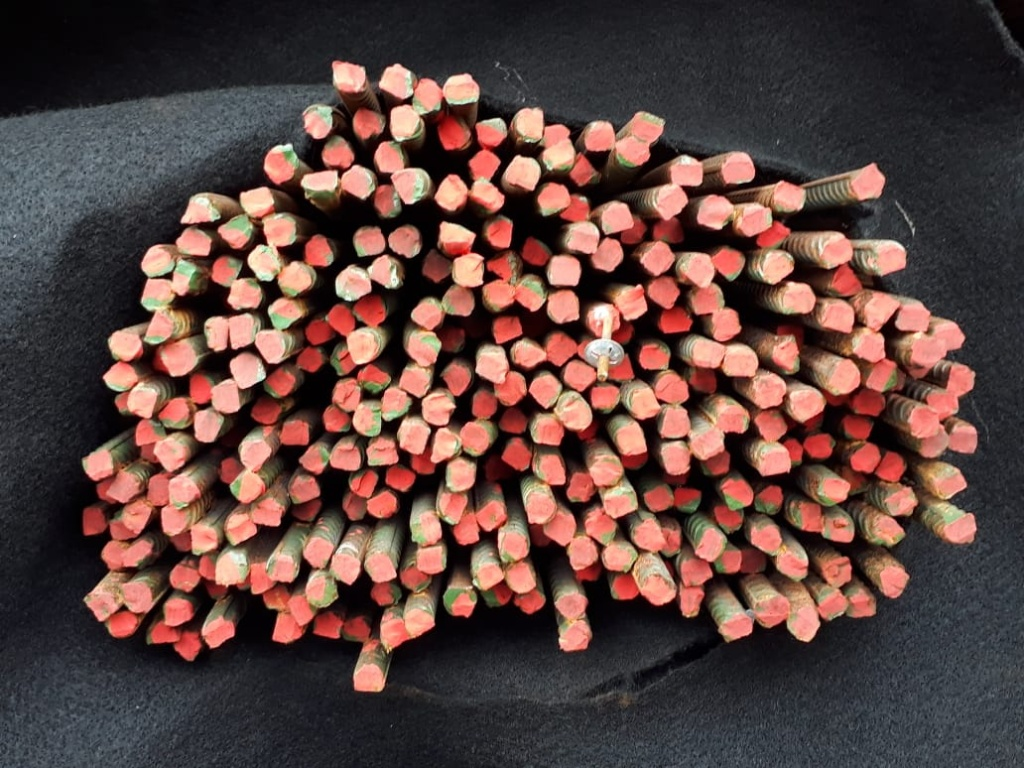dipstick: (554, 392, 592, 431), (543, 332, 579, 368), (277, 261, 312, 297), (697, 194, 733, 229), (379, 65, 417, 98), (264, 145, 296, 184), (230, 353, 265, 388), (247, 244, 281, 280), (335, 266, 371, 300), (789, 389, 825, 423), (515, 274, 547, 312), (161, 341, 196, 375), (436, 115, 470, 150), (506, 155, 540, 190), (826, 359, 860, 394), (850, 328, 885, 362), (863, 296, 899, 329), (641, 241, 675, 275), (261, 214, 296, 247), (435, 175, 468, 210), (172, 259, 204, 295), (544, 510, 576, 546), (753, 595, 789, 627), (713, 246, 745, 282), (586, 303, 620, 336), (391, 169, 423, 204), (408, 330, 440, 365), (591, 237, 623, 272), (655, 184, 687, 219), (852, 165, 884, 200), (341, 166, 374, 199), (218, 215, 251, 248), (819, 233, 852, 266), (458, 422, 490, 456), (440, 222, 474, 254), (538, 183, 570, 217), (476, 350, 508, 384), (494, 372, 526, 406), (529, 375, 561, 409), (681, 253, 713, 287), (390, 104, 421, 139), (141, 279, 176, 310), (267, 298, 302, 329), (102, 361, 137, 392), (368, 256, 403, 287), (640, 574, 676, 604), (412, 78, 441, 115), (713, 405, 750, 434), (215, 552, 248, 584), (229, 471, 262, 503), (631, 111, 664, 143), (547, 289, 579, 322), (584, 514, 616, 547), (691, 427, 723, 460), (547, 255, 581, 286), (603, 487, 637, 518), (590, 456, 624, 487), (654, 373, 688, 404), (723, 345, 757, 376), (721, 152, 755, 183), (764, 250, 795, 284), (144, 309, 174, 344), (737, 206, 772, 236), (772, 337, 800, 374), (305, 576, 337, 608), (388, 225, 420, 257), (753, 375, 785, 407), (321, 136, 354, 167), (122, 501, 153, 534), (202, 617, 235, 648), (353, 295, 386, 326), (755, 410, 788, 441), (469, 181, 503, 211), (423, 248, 453, 282), (488, 251, 522, 281), (788, 607, 818, 641), (757, 220, 791, 250), (852, 386, 886, 416), (331, 62, 366, 91), (443, 74, 478, 103), (568, 535, 597, 570), (910, 336, 946, 364), (225, 514, 257, 545), (421, 394, 453, 425), (452, 254, 483, 286), (634, 519, 665, 551), (564, 360, 596, 391), (680, 556, 711, 588), (884, 486, 916, 517), (240, 187, 273, 217), (141, 247, 174, 277), (107, 471, 140, 501), (511, 338, 544, 368), (932, 468, 965, 498), (302, 104, 331, 138), (228, 279, 262, 308), (443, 587, 477, 616), (176, 228, 211, 256), (82, 449, 113, 480), (347, 332, 378, 363), (398, 422, 429, 453), (401, 562, 432, 593), (543, 140, 574, 171), (568, 223, 599, 254), (875, 242, 906, 273), (866, 360, 897, 391), (255, 331, 285, 363), (154, 439, 184, 471), (438, 492, 468, 524), (617, 287, 647, 319), (696, 529, 726, 561), (776, 550, 808, 580), (872, 516, 904, 546), (875, 451, 907, 481), (649, 277, 679, 309), (671, 156, 703, 186), (773, 181, 805, 211), (821, 514, 854, 543), (782, 283, 815, 312), (820, 303, 853, 332), (484, 215, 512, 249), (656, 307, 692, 333), (946, 363, 972, 399), (211, 256, 242, 286), (193, 411, 223, 442), (469, 150, 500, 180), (404, 608, 434, 639), (504, 563, 535, 593), (491, 313, 522, 343), (909, 407, 939, 438), (108, 331, 140, 360), (352, 226, 384, 255), (442, 364, 471, 396), (410, 300, 442, 329), (527, 492, 556, 524), (692, 285, 724, 314), (301, 171, 338, 196), (352, 109, 385, 137), (382, 387, 410, 420), (616, 138, 649, 166), (712, 308, 740, 341), (83, 593, 117, 620), (603, 545, 637, 572), (159, 398, 189, 428), (265, 368, 295, 398), (122, 582, 152, 612), (326, 305, 356, 335), (410, 514, 440, 544), (584, 121, 614, 151), (482, 279, 512, 309), (817, 591, 847, 621), (375, 142, 404, 173), (239, 441, 270, 470), (274, 613, 305, 642), (477, 500, 506, 531), (443, 286, 474, 315), (602, 204, 633, 233), (534, 455, 565, 484), (532, 416, 563, 445), (792, 502, 823, 531), (850, 443, 881, 472), (832, 265, 861, 296), (949, 423, 978, 454), (364, 554, 396, 582), (880, 566, 908, 598), (182, 195, 215, 222), (228, 315, 255, 348), (374, 184, 401, 217), (515, 108, 542, 141), (128, 388, 157, 418), (210, 382, 239, 412), (168, 477, 197, 507), (252, 497, 282, 526), (349, 469, 378, 499), (331, 554, 361, 583), (379, 617, 408, 647), (399, 368, 429, 397), (822, 557, 851, 587), (920, 427, 949, 457), (945, 514, 975, 543), (251, 396, 282, 424), (304, 537, 332, 568), (304, 234, 332, 265), (476, 118, 507, 146), (353, 404, 381, 435), (353, 664, 384, 692), (932, 322, 963, 350), (927, 390, 958, 418), (169, 565, 201, 592), (330, 343, 356, 376), (691, 340, 724, 366), (571, 153, 596, 187), (267, 554, 296, 583), (521, 237, 550, 266), (332, 382, 360, 412), (750, 525, 780, 553), (359, 365, 390, 392), (721, 613, 752, 640), (897, 306, 928, 333), (164, 597, 193, 625), (446, 461, 474, 490), (500, 532, 528, 561), (847, 589, 876, 617), (630, 389, 658, 418), (660, 409, 689, 437), (819, 478, 847, 507), (755, 485, 783, 514), (687, 367, 716, 395), (174, 631, 201, 661), (191, 525, 218, 555), (161, 505, 188, 535), (385, 465, 415, 492), (501, 443, 531, 470), (567, 472, 594, 502), (644, 484, 674, 511), (713, 505, 743, 532), (453, 513, 479, 544), (560, 624, 591, 650), (653, 218, 684, 244), (842, 415, 873, 441), (370, 581, 402, 606), (591, 383, 619, 411), (123, 541, 152, 568), (434, 428, 461, 457), (559, 193, 588, 220), (761, 448, 790, 475), (621, 215, 648, 244), (205, 317, 228, 351), (554, 595, 588, 618), (135, 420, 165, 446), (107, 611, 137, 637), (249, 563, 275, 593), (289, 596, 315, 626), (330, 444, 360, 470), (722, 483, 752, 509), (639, 344, 669, 370), (262, 586, 293, 611), (514, 589, 546, 613), (314, 611, 342, 638), (417, 546, 445, 573), (738, 547, 766, 574), (701, 449, 729, 476), (101, 541, 127, 570), (290, 476, 319, 502), (473, 563, 502, 589), (663, 445, 689, 474), (803, 435, 834, 459), (366, 442, 398, 465), (480, 583, 512, 606), (323, 406, 351, 432), (368, 492, 396, 518), (410, 446, 435, 475), (499, 408, 528, 433), (678, 587, 703, 616), (279, 421, 309, 445), (301, 446, 328, 472), (343, 616, 370, 642), (674, 487, 701, 513), (188, 375, 213, 403), (341, 492, 366, 520), (610, 574, 638, 599), (440, 326, 465, 353), (147, 475, 169, 505), (146, 622, 179, 642), (217, 458, 242, 484), (297, 348, 324, 372), (306, 320, 333, 344), (543, 125, 570, 149), (82, 507, 105, 535), (472, 390, 495, 418), (620, 448, 647, 470), (717, 550, 741, 573)
